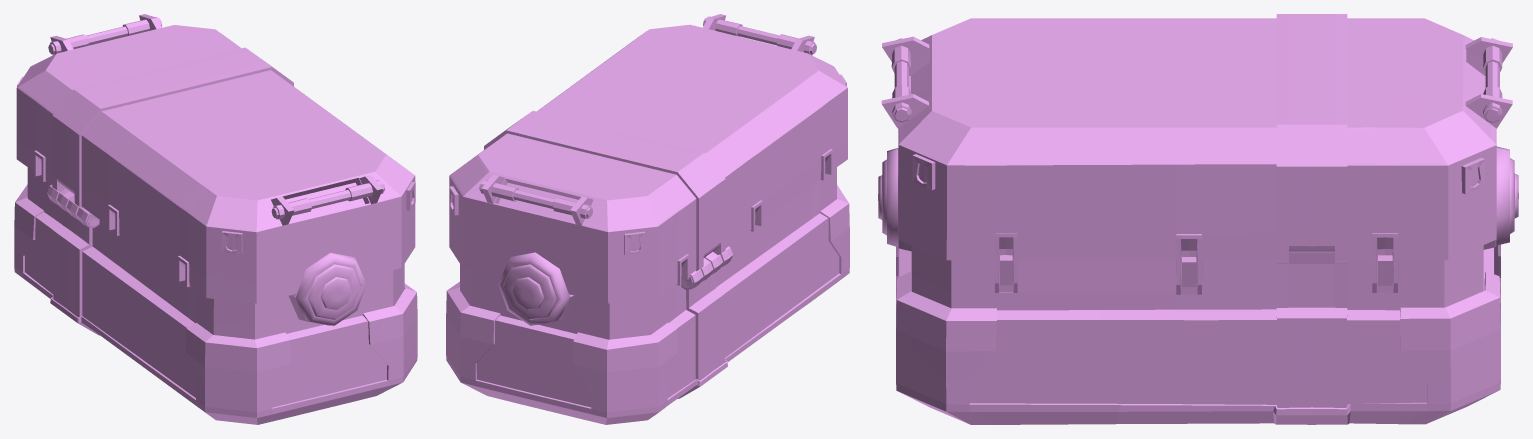
The model's file is caja.fbx.
3 views of the same model, side by side, from view 1: azimuth 30°, elevation 25°; view 2: azimuth 150°, elevation 25°; view 3: azimuth 270°, elevation 25° (orthographic). The views are drawn at different scales.
Parts seen in each view (by area): view 1: Top_LP, Bottom_LP, Bumper_LP, Latch_LP, Middle_LP, FrontCap1_LP, Hinge_LP, RingLatch4_LP, HandleEnd2_LP, CenterHandle2_LP, CenterHandle_LP, HandleEnd1_LP (+1 smaller); view 2: Top_LP, Bottom_LP, Bumper_LP, Latch_LP, Middle_LP, FrontCap2_LP, Hinge_LP, RingLatch2_LP, CenterHandle_LP, CenterHandle2_LP, HandleEnd3_LP, HandleEnd4_LP (+1 smaller); view 3: Top_LP, Bottom_LP, Bumper_LP, Latch_LP, Middle_LP, FrontCap2_LP, FrontCap1_LP, BigLatch2_LP, BigLatch3_LP, BigLatch_LP, RingLatch3_LP, RingLatch_LP (+4 smaller).
Part boxes in pixels (box(x1,y1,x2,y2)): Top_LP: box(16, 25, 415, 303); Bottom_LP: box(25, 212, 415, 407); Bumper_LP: box(14, 184, 417, 424); Latch_LP: box(52, 47, 293, 317); Middle_LP: box(27, 167, 404, 339); FrontCap1_LP: box(296, 253, 366, 325); Hinge_LP: box(47, 184, 99, 227); RingLatch4_LP: box(221, 231, 242, 254); HandleEnd2_LP: box(271, 198, 311, 219); CenterHandle2_LP: box(86, 26, 127, 45); CenterHandle_LP: box(309, 190, 350, 208); HandleEnd1_LP: box(345, 180, 385, 201); Top_LP: box(449, 24, 847, 303); Bottom_LP: box(476, 213, 839, 407); Bumper_LP: box(446, 185, 849, 424); Latch_LP: box(484, 111, 725, 380); Middle_LP: box(460, 167, 836, 339); FrontCap2_LP: box(498, 252, 569, 325); Hinge_LP: box(681, 246, 732, 289); RingLatch2_LP: box(624, 231, 645, 255); CenterHandle_LP: box(737, 26, 779, 45); CenterHandle2_LP: box(513, 189, 555, 208); HandleEnd3_LP: box(553, 198, 592, 218); HandleEnd4_LP: box(479, 180, 518, 201); Top_LP: box(898, 18, 1496, 260); Bottom_LP: box(899, 247, 1494, 405); Bumper_LP: box(896, 244, 1500, 424); Latch_LP: box(1276, 14, 1347, 407); Middle_LP: box(911, 245, 1483, 310); FrontCap2_LP: box(1496, 146, 1518, 245); FrontCap1_LP: box(878, 148, 897, 246); BigLatch2_LP: box(1176, 234, 1202, 294); BigLatch3_LP: box(1372, 233, 1398, 292); BigLatch_LP: box(995, 233, 1017, 292); RingLatch3_LP: box(912, 154, 935, 190); RingLatch_LP: box(1461, 157, 1484, 194).
Size of the model in its own units: 104 by 104 by 200.
